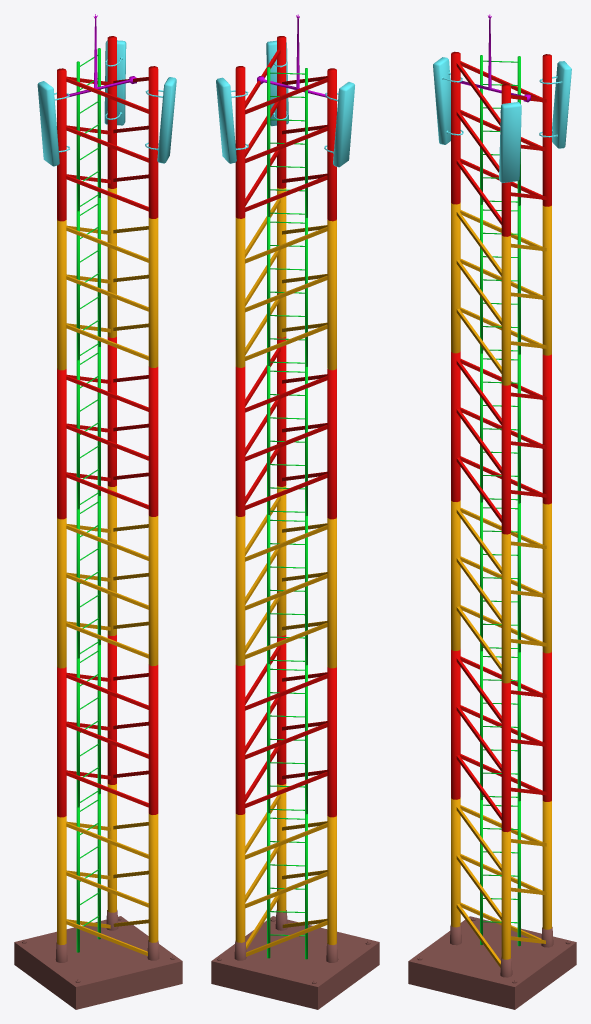
Rendered from CellTowerJoied.fbx.
3 renders of one model, left to right at view 1: azimuth 30°, elevation 25°; view 2: azimuth 150°, elevation 25°; view 3: azimuth 330°, elevation 25°, orthographic.
Visible parts, largest first — view 1: JoinedTower; view 2: JoinedTower; view 3: JoinedTower.
Part boxes in pixels (box(x1,y1,x2,y2)): JoinedTower: box(14, 14, 182, 1009); JoinedTower: box(211, 14, 379, 1009); JoinedTower: box(408, 14, 576, 1009).
Bounding box in the file's own units: 154 × 1290 × 153.
